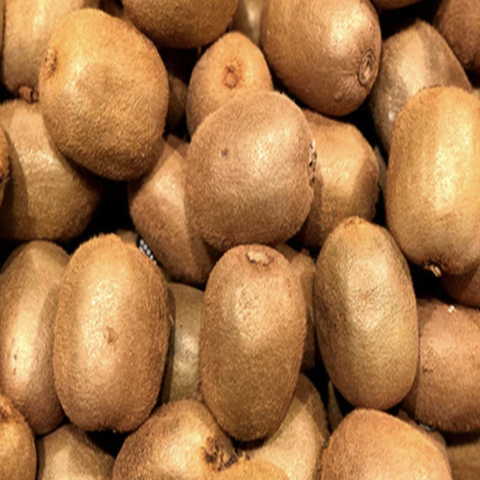kiwi: (181, 84, 345, 258), (49, 228, 177, 447), (28, 4, 175, 194), (297, 208, 440, 403), (196, 235, 312, 452), (374, 77, 480, 267)
